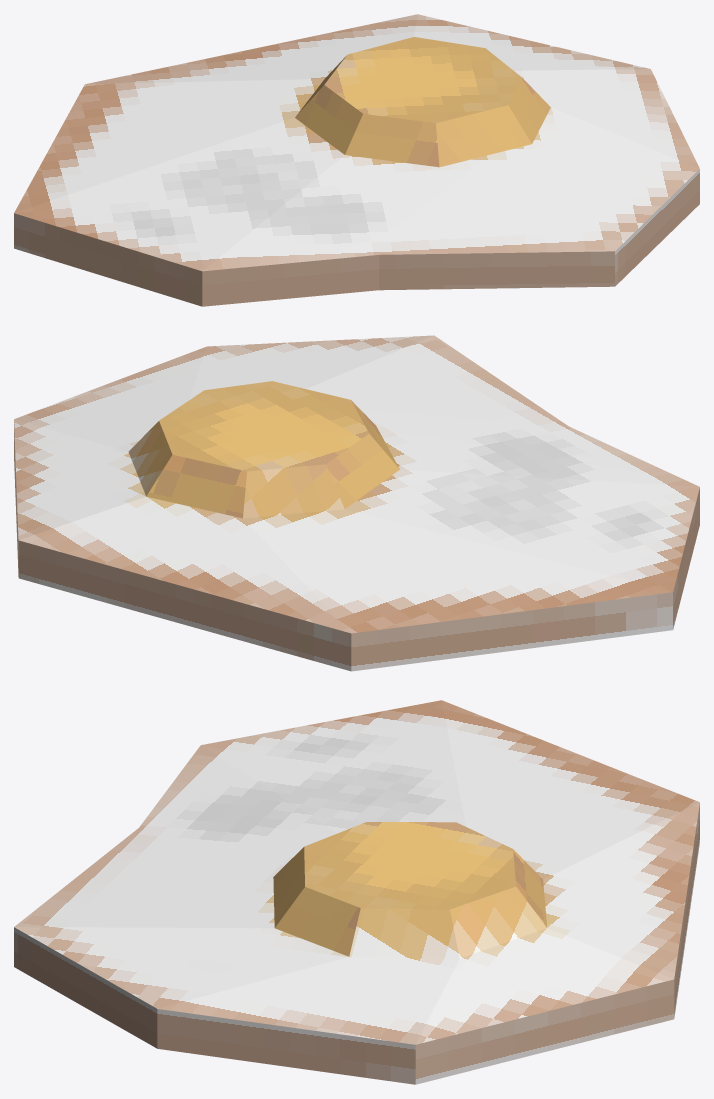
File: medamayaki_yake.gltf
The picture shows the model from 3 angles, top to bottom: view 1: azimuth 30°, elevation 25°; view 2: azimuth 150°, elevation 25°; view 3: azimuth 270°, elevation 25°; orthographic projection. The views are drawn at different scales.
Parts seen in each view (by area): view 1: Cube.001; view 2: Cube.001; view 3: Cube.001.
Boxes of the visible parts, x1,y1,x2,y2 form: Cube.001: [14, 14, 699, 306]; Cube.001: [14, 335, 699, 671]; Cube.001: [14, 700, 699, 1084].
Size of the model in its own units: 0.3009 by 0.0376 by 0.2531.
Materials: 1 (1 with a texture image).
